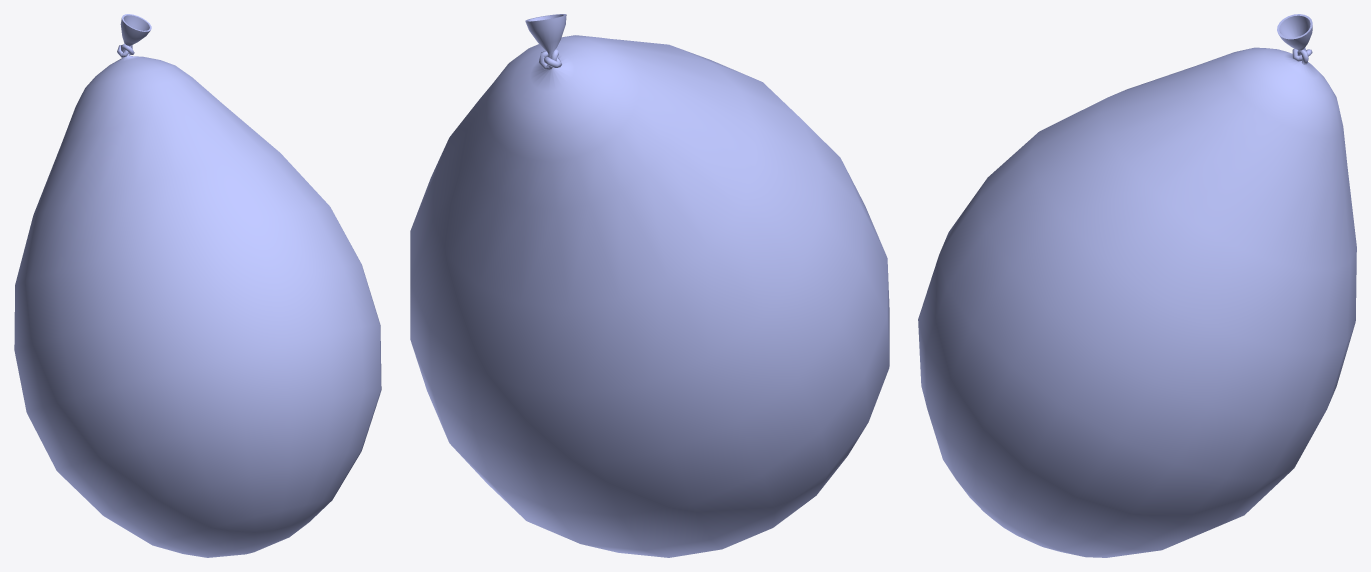
Rendered from globo2.obj.
The picture shows the model from 3 angles, left to right: view 1: azimuth 30°, elevation 25°; view 2: azimuth 150°, elevation 25°; view 3: azimuth 270°, elevation 25°; orthographic projection. The views are drawn at different scales.
Parts seen in each view (by area): view 1: Balloon018; view 2: Balloon018; view 3: Balloon018.
Boxes of the visible parts, x1=… form: Balloon018: x1=14, y1=14, x2=381, y2=557; Balloon018: x1=410, y1=14, x2=889, y2=557; Balloon018: x1=918, y1=14, x2=1356, y2=557.
Size of the model in its own units: 0.7335 by 1.01 by 0.7658.
